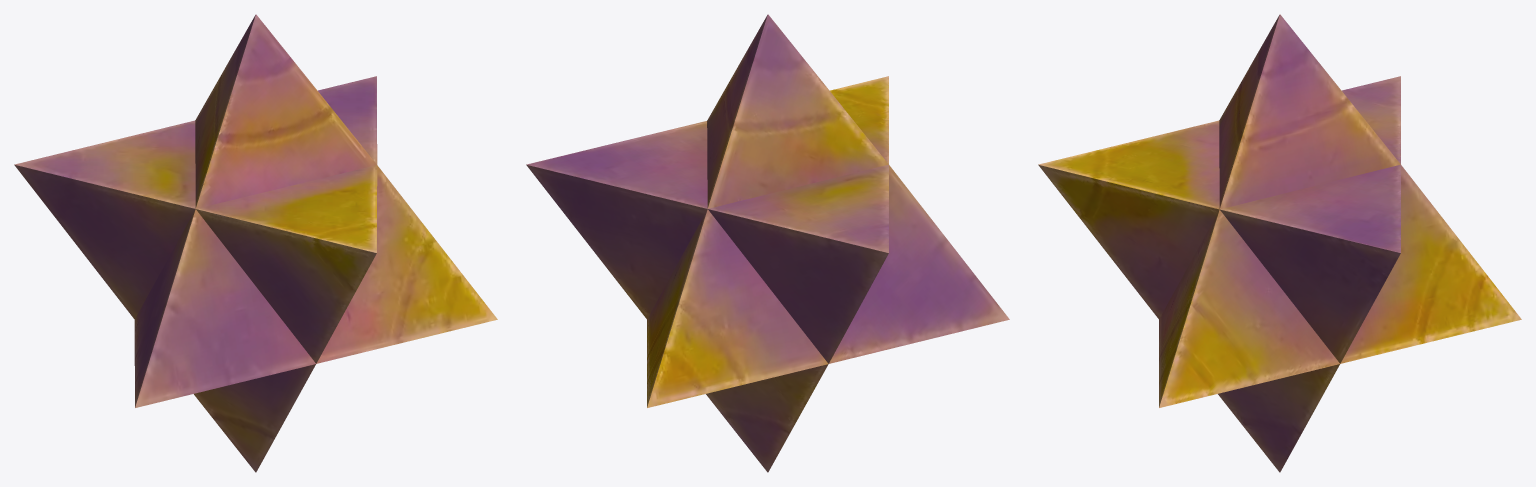
3 views of the same model, side by side, from view 1: azimuth 30°, elevation 25°; view 2: azimuth 150°, elevation 25°; view 3: azimuth 270°, elevation 25° (orthographic).
Visible parts, largest first — view 1: SM_Harmonized_Compound_LOD0; view 2: SM_Harmonized_Compound_LOD0; view 3: SM_Harmonized_Compound_LOD0.
Part boxes in pixels (bbox=[...]): SM_Harmonized_Compound_LOD0: bbox=[14, 14, 497, 472]; SM_Harmonized_Compound_LOD0: bbox=[526, 14, 1009, 472]; SM_Harmonized_Compound_LOD0: bbox=[1038, 14, 1521, 472].
Size of the model in its own units: 0.2756 by 0.3331 by 0.3183.
1 material, 1 textured.
